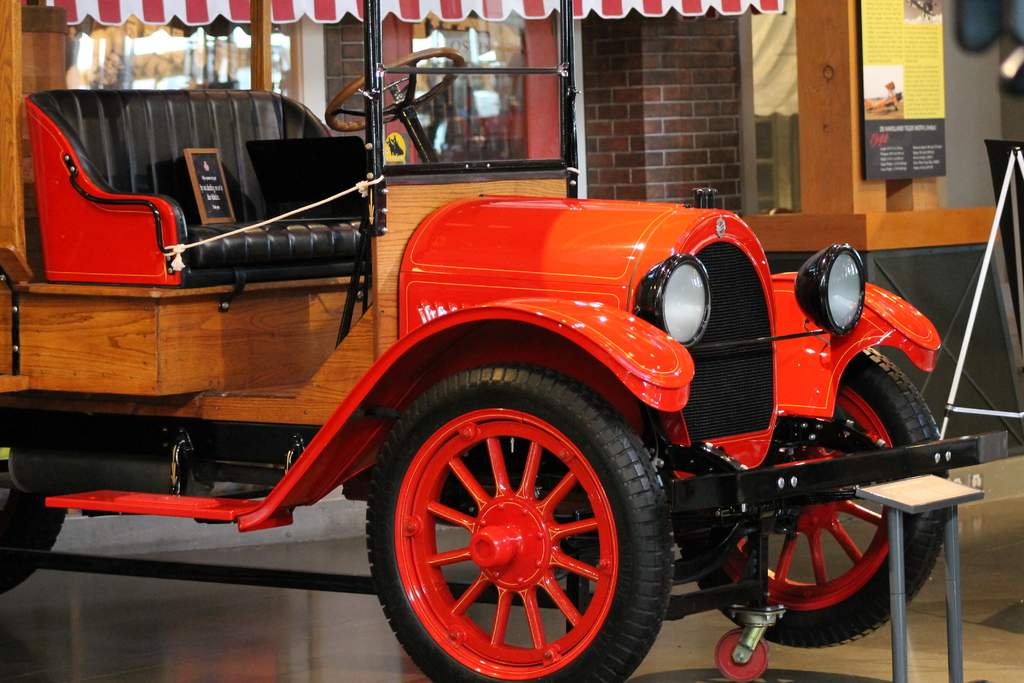Car: (3, 65, 1016, 681)
